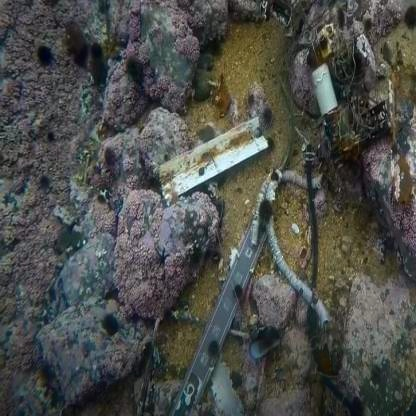electronics: (208, 156, 278, 392), (294, 38, 392, 169)
